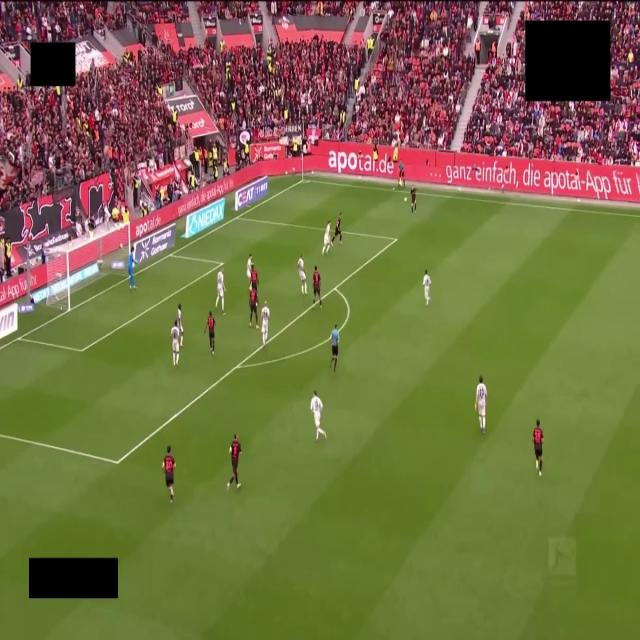ball: (404, 196, 408, 202)
player: (227, 434, 241, 488), (162, 446, 175, 503), (311, 391, 326, 440), (475, 376, 487, 434), (532, 420, 543, 476), (215, 268, 225, 314), (205, 312, 215, 355), (171, 320, 180, 367), (312, 266, 322, 307), (261, 301, 269, 346), (331, 213, 342, 245), (249, 289, 258, 328), (128, 246, 136, 289), (298, 255, 306, 295), (322, 221, 331, 255), (177, 304, 183, 347), (423, 270, 430, 306), (250, 265, 258, 290), (410, 185, 416, 215), (247, 254, 252, 283)
referee: (330, 325, 339, 371)
